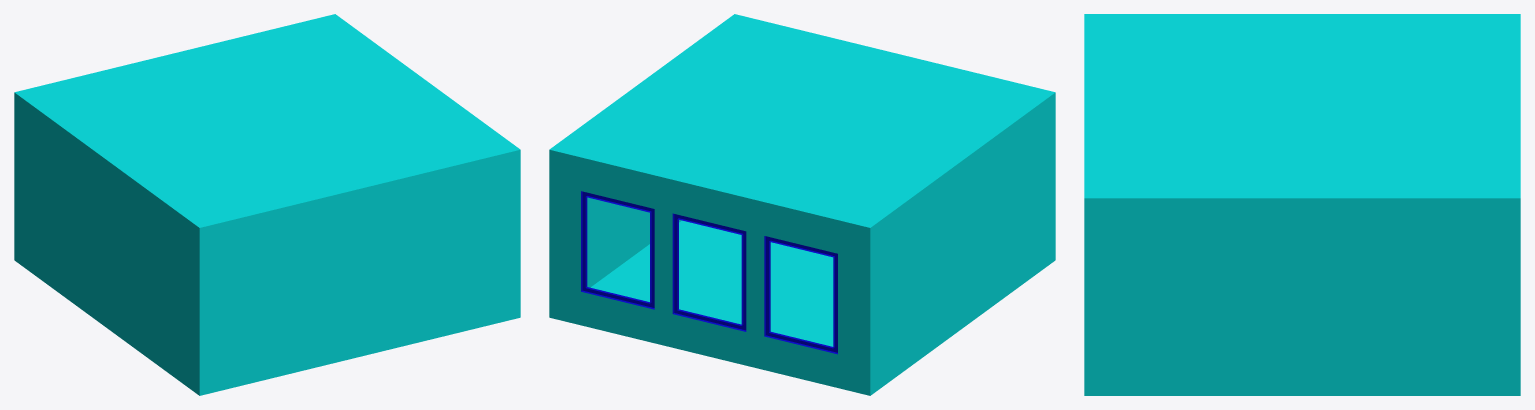
File: Room_01.fbx
3 views of the same model, side by side, from view 1: azimuth 30°, elevation 25°; view 2: azimuth 150°, elevation 25°; view 3: azimuth 270°, elevation 25° (orthographic). The views are drawn at different scales.
Visible parts, largest first — view 1: Room_01; view 2: Room_01; view 3: Room_01.
Boxes of the visible parts, x1,y1,x2,y2 form: Room_01: (14, 14, 520, 395); Room_01: (549, 14, 1055, 395); Room_01: (1084, 14, 1520, 395).
Size of the model in its own units: 1000 by 500 by 1000.
